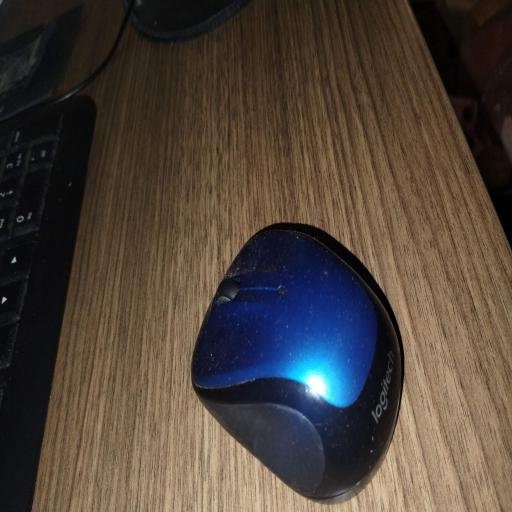mouse: (192, 230, 402, 502)
